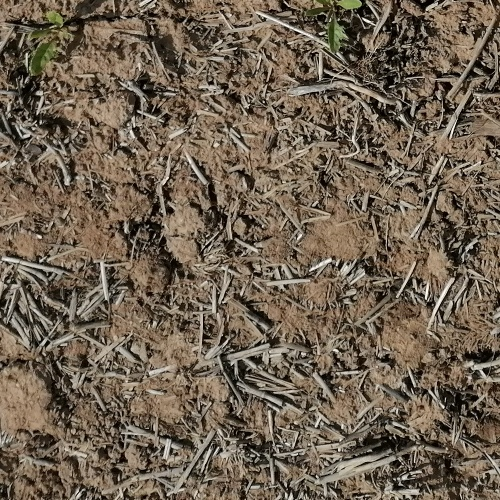beet: (26, 10, 73, 76), (306, 0, 362, 52)
